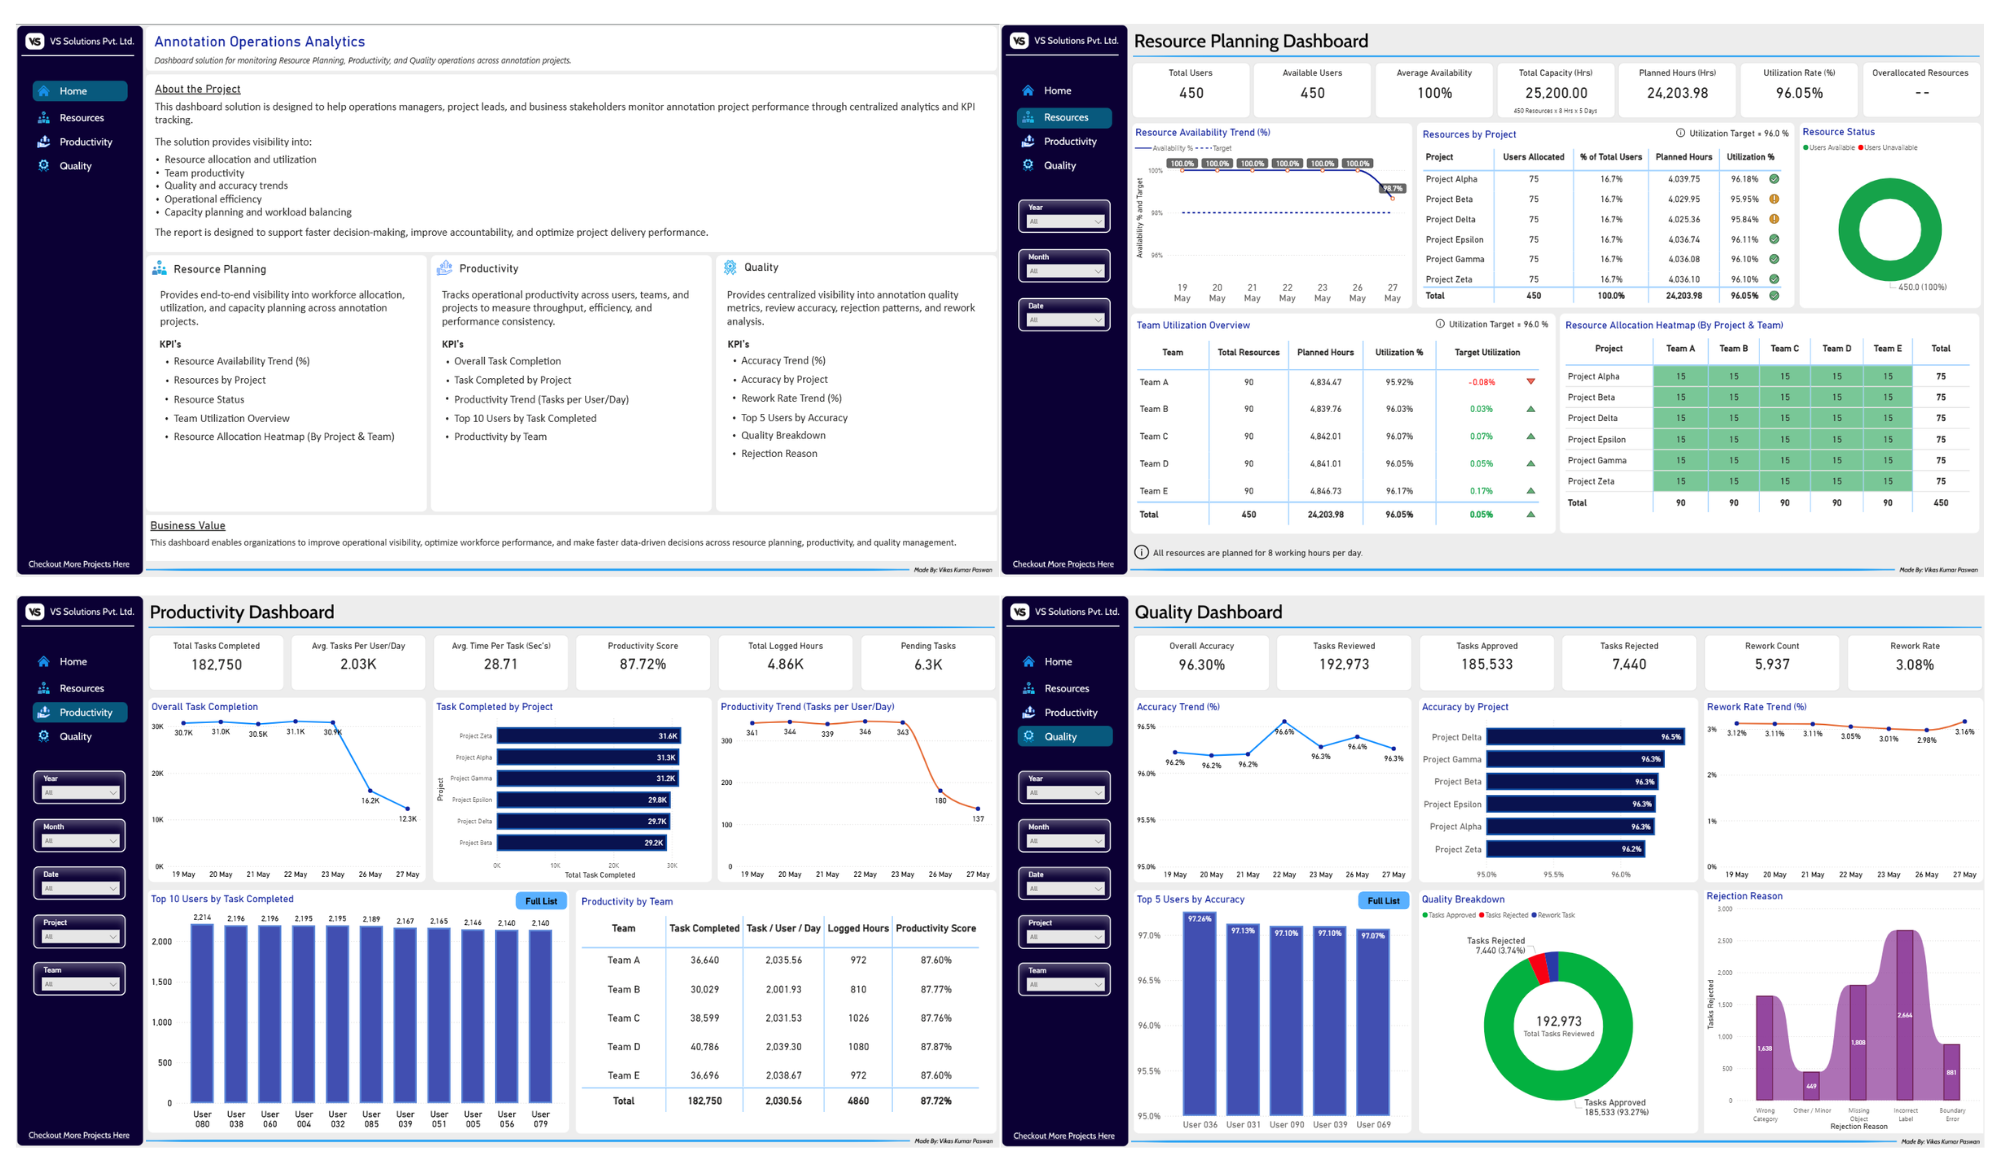

The dashboard page shown, as its layout file describes it:
{"tool":"powerbi","page":{"name":"Home","canvas":[1920,1080],"ordinal":0},"visuals":[{"type":"actionButton","box":[35.9,162.3,185,38.6],"z":0},{"type":"actionButton","box":[35.9,210.1,185,38.6],"z":1000},{"type":"actionButton","box":[35.9,258,185,38.6],"z":2000},{"type":"shape","box":[255.7,4.3,1660,87.1],"z":3000},{"type":"textbox","box":[267.1,11.4,707.1,42.9],"z":4000},{"type":"textbox","box":[267.1,54.3,978.6,35.7],"z":5000},{"type":"shape","box":[255.7,97.1,1660,347.1],"z":6000},{"type":"shape","box":[255.4,450,548.5,500],"z":7000},{"type":"shape","box":[811.5,450,548,500],"z":8000},{"type":"shape","box":[1367.1,450,548.6,500],"z":9000},{"type":"shape","box":[255.4,956.3,1659.9,90.4],"z":10000},{"type":"textbox","box":[267.3,107.7,818,35.9],"z":11000},{"type":"textbox","box":[267.3,142.3,1634.6,113.1],"z":12000},{"type":"textbox","box":[268.6,245.5,17.3,35.5],"z":13000},{"type":"textbox","box":[268.6,270.9,17.3,35.5],"z":14000},{"type":"textbox","box":[268.6,296.8,17.3,35.5],"z":15000},{"type":"textbox","box":[268.8,322.5,17.5,35],"z":16000},{"type":"textbox","box":[286.2,245,525,36.2],"z":17000},{"type":"textbox","box":[286.2,271.2,525,36.2],"z":18000},{"type":"textbox","box":[286.2,296.2,525,36.2],"z":19000},{"type":"textbox","box":[286.2,322.5,525,36.2],"z":20000},{"type":"textbox","box":[268.8,348.2,17.6,35.3],"z":21000},{"type":"textbox","box":[287.1,348.2,524.7,36.5],"z":22000},{"type":"textbox","box":[267.3,387,1634.6,37.2],"z":23000},{"type":"textbox","box":[304.6,458.9,490.8,38.6],"z":24000},{"type":"image","box":[266.2,460,30,30],"z":25000},{"type":"textbox","box":[861.9,457.5,489.5,38.6],"z":26000},{"type":"image","box":[822.5,460,30,30],"z":27000},{"type":"textbox","box":[1417.8,456.2,489.5,38.6],"z":28000},{"type":"image","box":[1380,460,30,30],"z":29000},{"type":"textbox","box":[277.8,508.9,516.7,96.7],"z":30000},{"type":"textbox","box":[277.1,605.7,517.1,40],"z":31000},{"type":"textbox","box":[827.6,508.9,516.7,96.7],"z":32000},{"type":"textbox","box":[827.1,605.7,517.1,40],"z":33000},{"type":"textbox","box":[1383.9,508.6,516.7,96.7],"z":34000},{"type":"textbox","box":[1384.3,605.7,515.7,40],"z":35000},{"type":"textbox","box":[287.9,639.3,17.1,35.7],"z":36000},{"type":"textbox","box":[304.3,638.6,490,37.1],"z":37000},{"type":"textbox","box":[287.9,676.4,17.1,35],"z":38000},{"type":"textbox","box":[305,675.5,490,37],"z":39000},{"type":"textbox","box":[287.1,711.4,17.1,35.7],"z":40000},{"type":"textbox","box":[305,712.9,490,37.1],"z":41000},{"type":"textbox","box":[287.1,750,17.9,35.7],"z":42000},{"type":"textbox","box":[305,750,490,37.1],"z":43000},{"type":"textbox","box":[1394.2,637.5,17.1,35.7],"z":44000},{"type":"textbox","box":[1410.7,636.8,490,37.1],"z":45000},{"type":"textbox","box":[1394.2,674.6,17.1,35],"z":46000},{"type":"textbox","box":[1411.4,673.7,490,37],"z":47000},{"type":"textbox","box":[1393.5,709.6,17.1,35.7],"z":48000},{"type":"textbox","box":[1411.4,711.1,490,37.1],"z":49000},{"type":"textbox","box":[1393.5,748.2,17.9,35.7],"z":50000},{"type":"textbox","box":[1411.4,748.2,490,37.1],"z":51000},{"type":"image","box":[255.7,1048.6,1488.6,31.4],"z":52000},{"type":"textbox","box":[259.4,959,818,35.9],"z":53000},{"type":"textbox","box":[259.4,993.5,1634.6,33.3],"z":54000},{"type":"actionButton","box":[23.9,1041.4,206.2,20],"z":55000},{"type":"actionButton","box":[18.6,13.3,42.6,38.6],"z":56000},{"type":"textbox","box":[287,786.1,17.9,35.7],"z":57000},{"type":"textbox","box":[304.8,786.1,490,37.1],"z":58000},{"type":"textbox","box":[834.8,639.1,17.1,35.7],"z":59000},{"type":"textbox","box":[851.3,638.4,490,37.1],"z":60000},{"type":"textbox","box":[834.8,676.2,17.1,35],"z":61000},{"type":"textbox","box":[852,675.3,490,37],"z":62000},{"type":"textbox","box":[834.1,711.2,17.1,35.7],"z":63000},{"type":"textbox","box":[852,712.6,490,37.1],"z":64000},{"type":"textbox","box":[834.1,749.8,17.9,35.7],"z":65000},{"type":"textbox","box":[852,749.8,490,37.1],"z":66000},{"type":"textbox","box":[834,785.9,17.9,35.7],"z":67000},{"type":"textbox","box":[851.8,785.9,490,37.1],"z":68000},{"type":"textbox","box":[1393.1,783,17.9,35.7],"z":69000},{"type":"textbox","box":[1411,783,490,37.1],"z":70000},{"type":"textbox","box":[1392.9,819.2,17.9,35.7],"z":71000},{"type":"textbox","box":[1410.8,819.2,490,37.1],"z":72000}]}

Visuals, with their boxes on the page's 1920x1080 design canvas (x1, y1, x2, y2). These are canvas units, not pixel positions in the 2000x1176 screenshot, which may show the page scaled, cropped or inside an application window:
actionButton: (x1=36, y1=162, x2=221, y2=201)
actionButton: (x1=36, y1=210, x2=221, y2=249)
actionButton: (x1=36, y1=258, x2=221, y2=297)
shape: (x1=256, y1=4, x2=1916, y2=91)
textbox: (x1=267, y1=11, x2=974, y2=54)
textbox: (x1=267, y1=54, x2=1246, y2=90)
shape: (x1=256, y1=97, x2=1916, y2=444)
shape: (x1=255, y1=450, x2=804, y2=950)
shape: (x1=812, y1=450, x2=1360, y2=950)
shape: (x1=1367, y1=450, x2=1916, y2=950)
shape: (x1=255, y1=956, x2=1915, y2=1047)
textbox: (x1=267, y1=108, x2=1085, y2=144)
textbox: (x1=267, y1=142, x2=1902, y2=255)
textbox: (x1=269, y1=246, x2=286, y2=281)
textbox: (x1=269, y1=271, x2=286, y2=306)
textbox: (x1=269, y1=297, x2=286, y2=332)
textbox: (x1=269, y1=322, x2=286, y2=358)
textbox: (x1=286, y1=245, x2=811, y2=281)
textbox: (x1=286, y1=271, x2=811, y2=307)
textbox: (x1=286, y1=296, x2=811, y2=332)
textbox: (x1=286, y1=322, x2=811, y2=359)
textbox: (x1=269, y1=348, x2=286, y2=384)
textbox: (x1=287, y1=348, x2=812, y2=385)
textbox: (x1=267, y1=387, x2=1902, y2=424)
textbox: (x1=305, y1=459, x2=795, y2=498)
image: (x1=266, y1=460, x2=296, y2=490)
textbox: (x1=862, y1=458, x2=1351, y2=496)
image: (x1=822, y1=460, x2=852, y2=490)
textbox: (x1=1418, y1=456, x2=1907, y2=495)
image: (x1=1380, y1=460, x2=1410, y2=490)
textbox: (x1=278, y1=509, x2=794, y2=606)
textbox: (x1=277, y1=606, x2=794, y2=646)
textbox: (x1=828, y1=509, x2=1344, y2=606)
textbox: (x1=827, y1=606, x2=1344, y2=646)
textbox: (x1=1384, y1=509, x2=1901, y2=605)
textbox: (x1=1384, y1=606, x2=1900, y2=646)
textbox: (x1=288, y1=639, x2=305, y2=675)
textbox: (x1=304, y1=639, x2=794, y2=676)
textbox: (x1=288, y1=676, x2=305, y2=711)
textbox: (x1=305, y1=676, x2=795, y2=712)
textbox: (x1=287, y1=711, x2=304, y2=747)
textbox: (x1=305, y1=713, x2=795, y2=750)
textbox: (x1=287, y1=750, x2=305, y2=786)
textbox: (x1=305, y1=750, x2=795, y2=787)
textbox: (x1=1394, y1=638, x2=1411, y2=673)
textbox: (x1=1411, y1=637, x2=1901, y2=674)
textbox: (x1=1394, y1=675, x2=1411, y2=710)
textbox: (x1=1411, y1=674, x2=1901, y2=711)
textbox: (x1=1394, y1=710, x2=1411, y2=745)
textbox: (x1=1411, y1=711, x2=1901, y2=748)
textbox: (x1=1394, y1=748, x2=1411, y2=784)
textbox: (x1=1411, y1=748, x2=1901, y2=785)
image: (x1=256, y1=1049, x2=1744, y2=1080)
textbox: (x1=259, y1=959, x2=1077, y2=995)
textbox: (x1=259, y1=994, x2=1894, y2=1027)
actionButton: (x1=24, y1=1041, x2=230, y2=1061)
actionButton: (x1=19, y1=13, x2=61, y2=52)
textbox: (x1=287, y1=786, x2=305, y2=822)
textbox: (x1=305, y1=786, x2=795, y2=823)
textbox: (x1=835, y1=639, x2=852, y2=675)
textbox: (x1=851, y1=638, x2=1341, y2=676)
textbox: (x1=835, y1=676, x2=852, y2=711)
textbox: (x1=852, y1=675, x2=1342, y2=712)
textbox: (x1=834, y1=711, x2=851, y2=747)
textbox: (x1=852, y1=713, x2=1342, y2=750)
textbox: (x1=834, y1=750, x2=852, y2=786)
textbox: (x1=852, y1=750, x2=1342, y2=787)
textbox: (x1=834, y1=786, x2=852, y2=822)
textbox: (x1=852, y1=786, x2=1342, y2=823)
textbox: (x1=1393, y1=783, x2=1411, y2=819)
textbox: (x1=1411, y1=783, x2=1901, y2=820)
textbox: (x1=1393, y1=819, x2=1411, y2=855)
textbox: (x1=1411, y1=819, x2=1901, y2=856)
